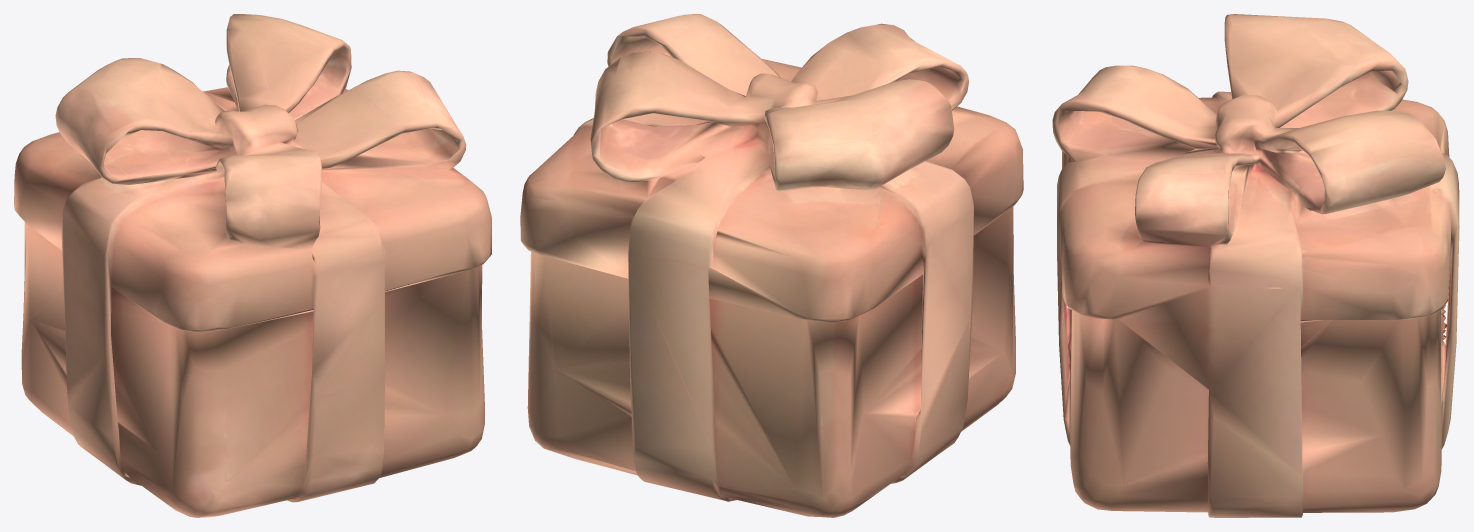
Rendered from clay-gift-box.glb.
3 renders of one model, left to right at view 1: azimuth 30°, elevation 25°; view 2: azimuth 150°, elevation 25°; view 3: azimuth 270°, elevation 25°, orthographic. The views are drawn at different scales.
Size of the model in its own units: 1.83 by 1.91 by 1.83.
1 material, 1 textured.
